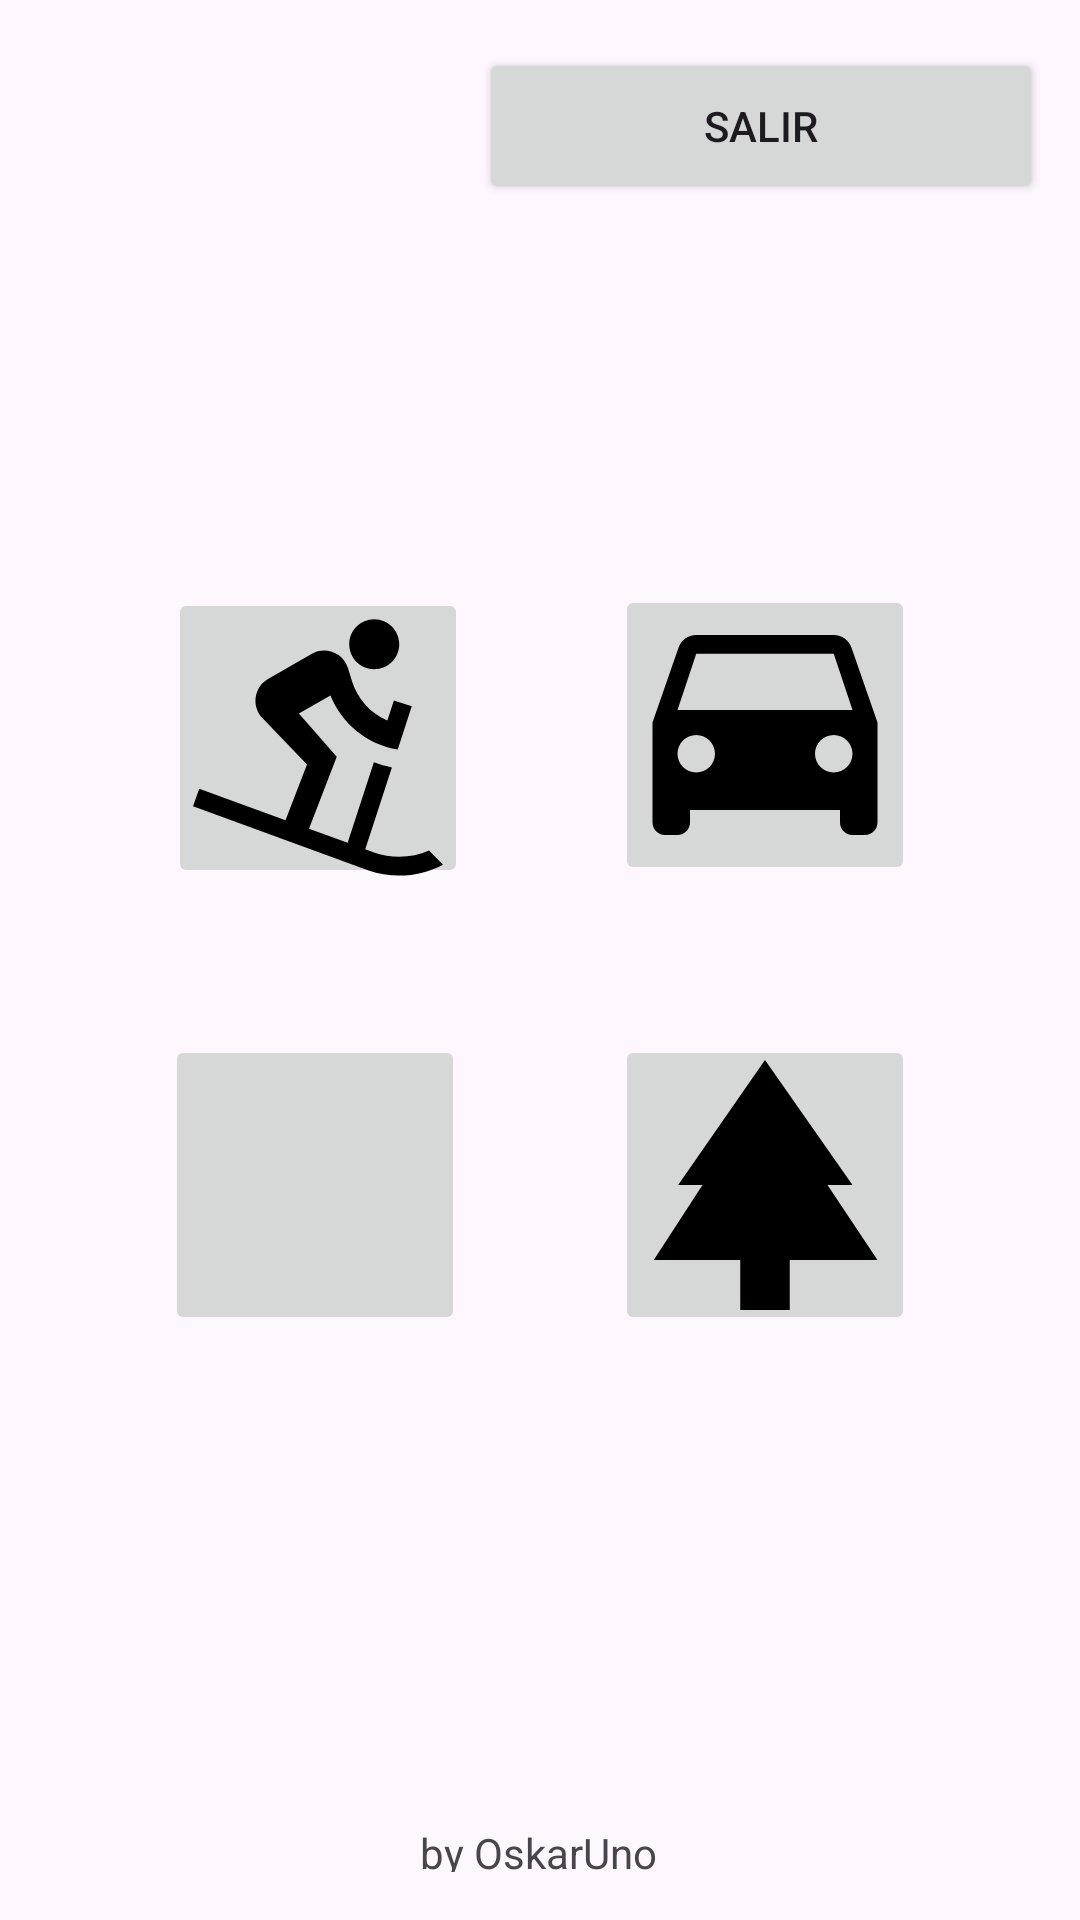

Icons on this 1080 × 1920 Android screen, each with the point to tap as (x=x, y=y):
downhill skiing: (x=318, y=741)
drive eta: (x=765, y=735)
park: (x=765, y=1185)
